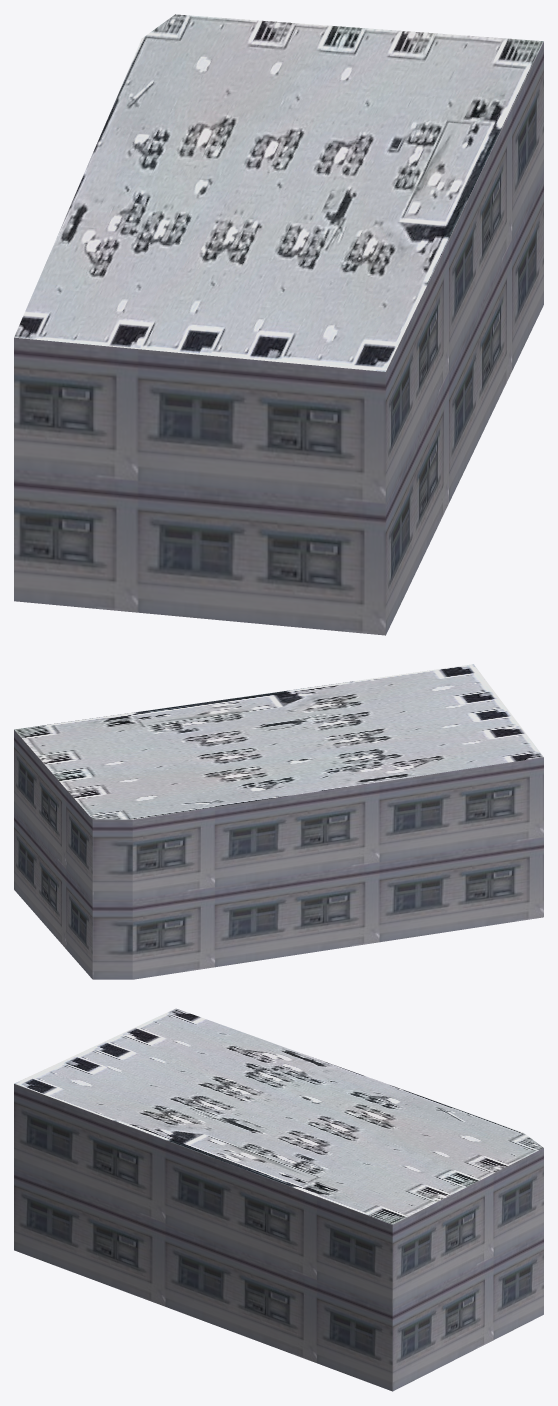
Rendered from ResTex__1346.fbx.
The picture shows the model from 3 angles, top to bottom: view 1: azimuth 30°, elevation 25°; view 2: azimuth 150°, elevation 25°; view 3: azimuth 270°, elevation 25°; orthographic projection. The views are drawn at different scales.
Parts seen in each view (by area): view 1: CityEngineMaterial_1_m, CityEngineMaterial_m; view 2: CityEngineMaterial_1_m, CityEngineMaterial_m; view 3: CityEngineMaterial_1_m, CityEngineMaterial_m.
Part boxes in pixels (x1=…): CityEngineMaterial_1_m: x1=14, y1=42, x2=543, y2=635; CityEngineMaterial_m: x1=14, y1=14, x2=543, y2=371; CityEngineMaterial_1_m: x1=14, y1=730, x2=543, y2=979; CityEngineMaterial_m: x1=14, y1=664, x2=543, y2=819; CityEngineMaterial_1_m: x1=14, y1=1084, x2=543, y2=1391; CityEngineMaterial_m: x1=14, y1=1008, x2=543, y2=1224.
Bounding box in the file's own units: 16.71 × 6 × 17.29.
Materials: 2 (2 with a texture image).
